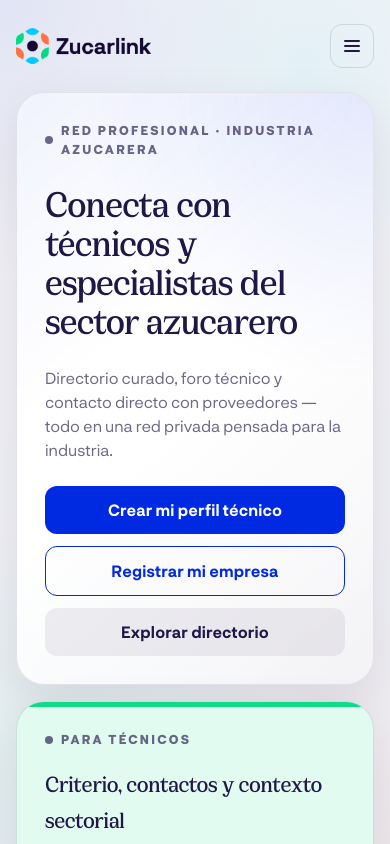
it: exposes a collapsible public menu for compact navigation
Click the button named "Abrir menú": (352, 46) [330,24,374,68]
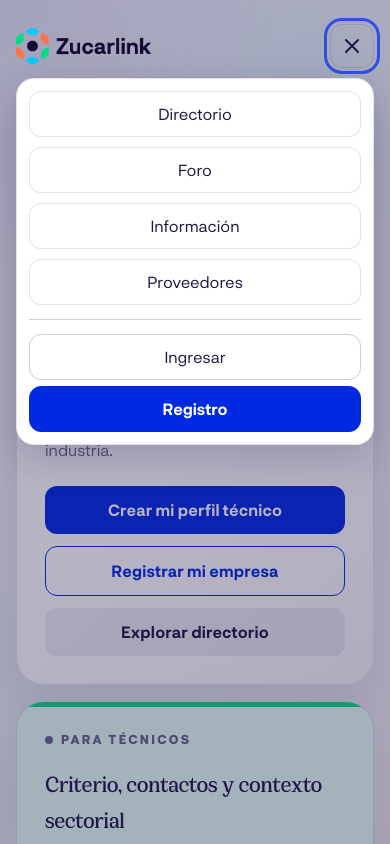
expect the button named "Abrir menú" is expanded: met, box [330,24,374,68]
